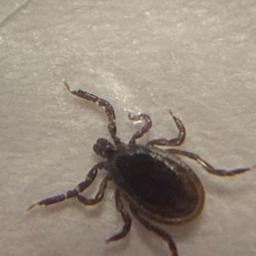Ixodes scapularis: (26, 85, 256, 255)
